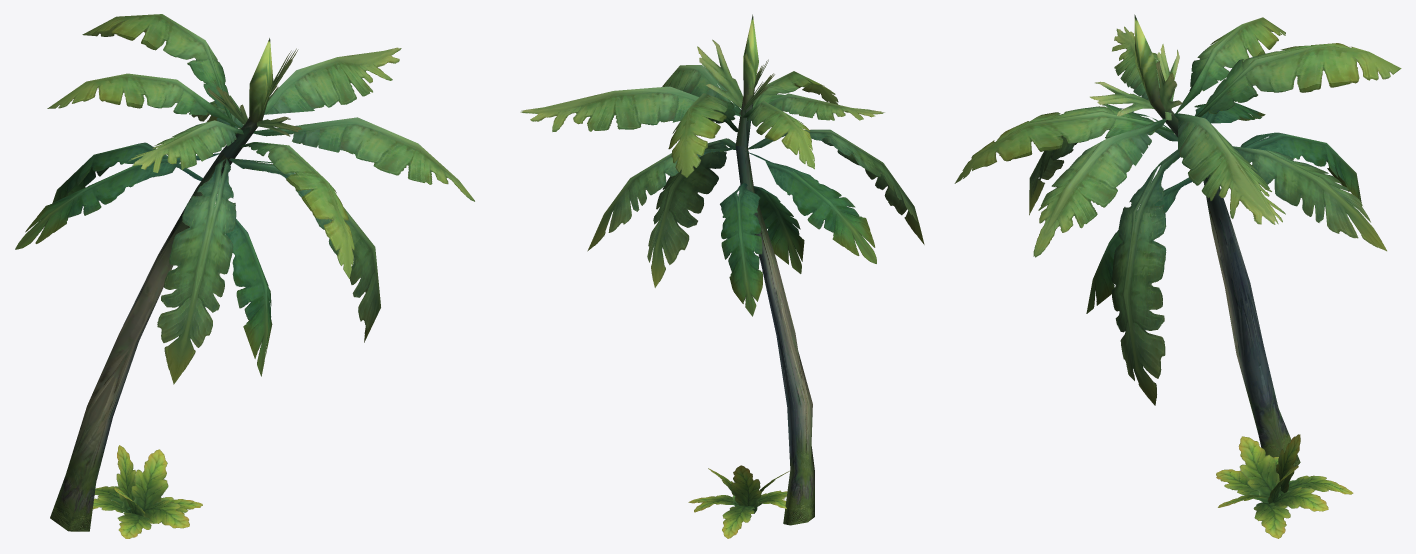
The model's file is shu_11.FBX.
3 renders of one model, left to right at view 1: azimuth 30°, elevation 25°; view 2: azimuth 150°, elevation 25°; view 3: azimuth 270°, elevation 25°, orthographic. The views are drawn at different scales.
Visible parts, largest first — view 1: shu_11; view 2: shu_11; view 3: shu_11.
Boxes of the visible parts, x1,y1,x2,y2 form: shu_11: (15,14,474,538); shu_11: (520,14,924,538); shu_11: (954,14,1401,538).
Bounding box in the file's own units: 295 × 356 × 276.
